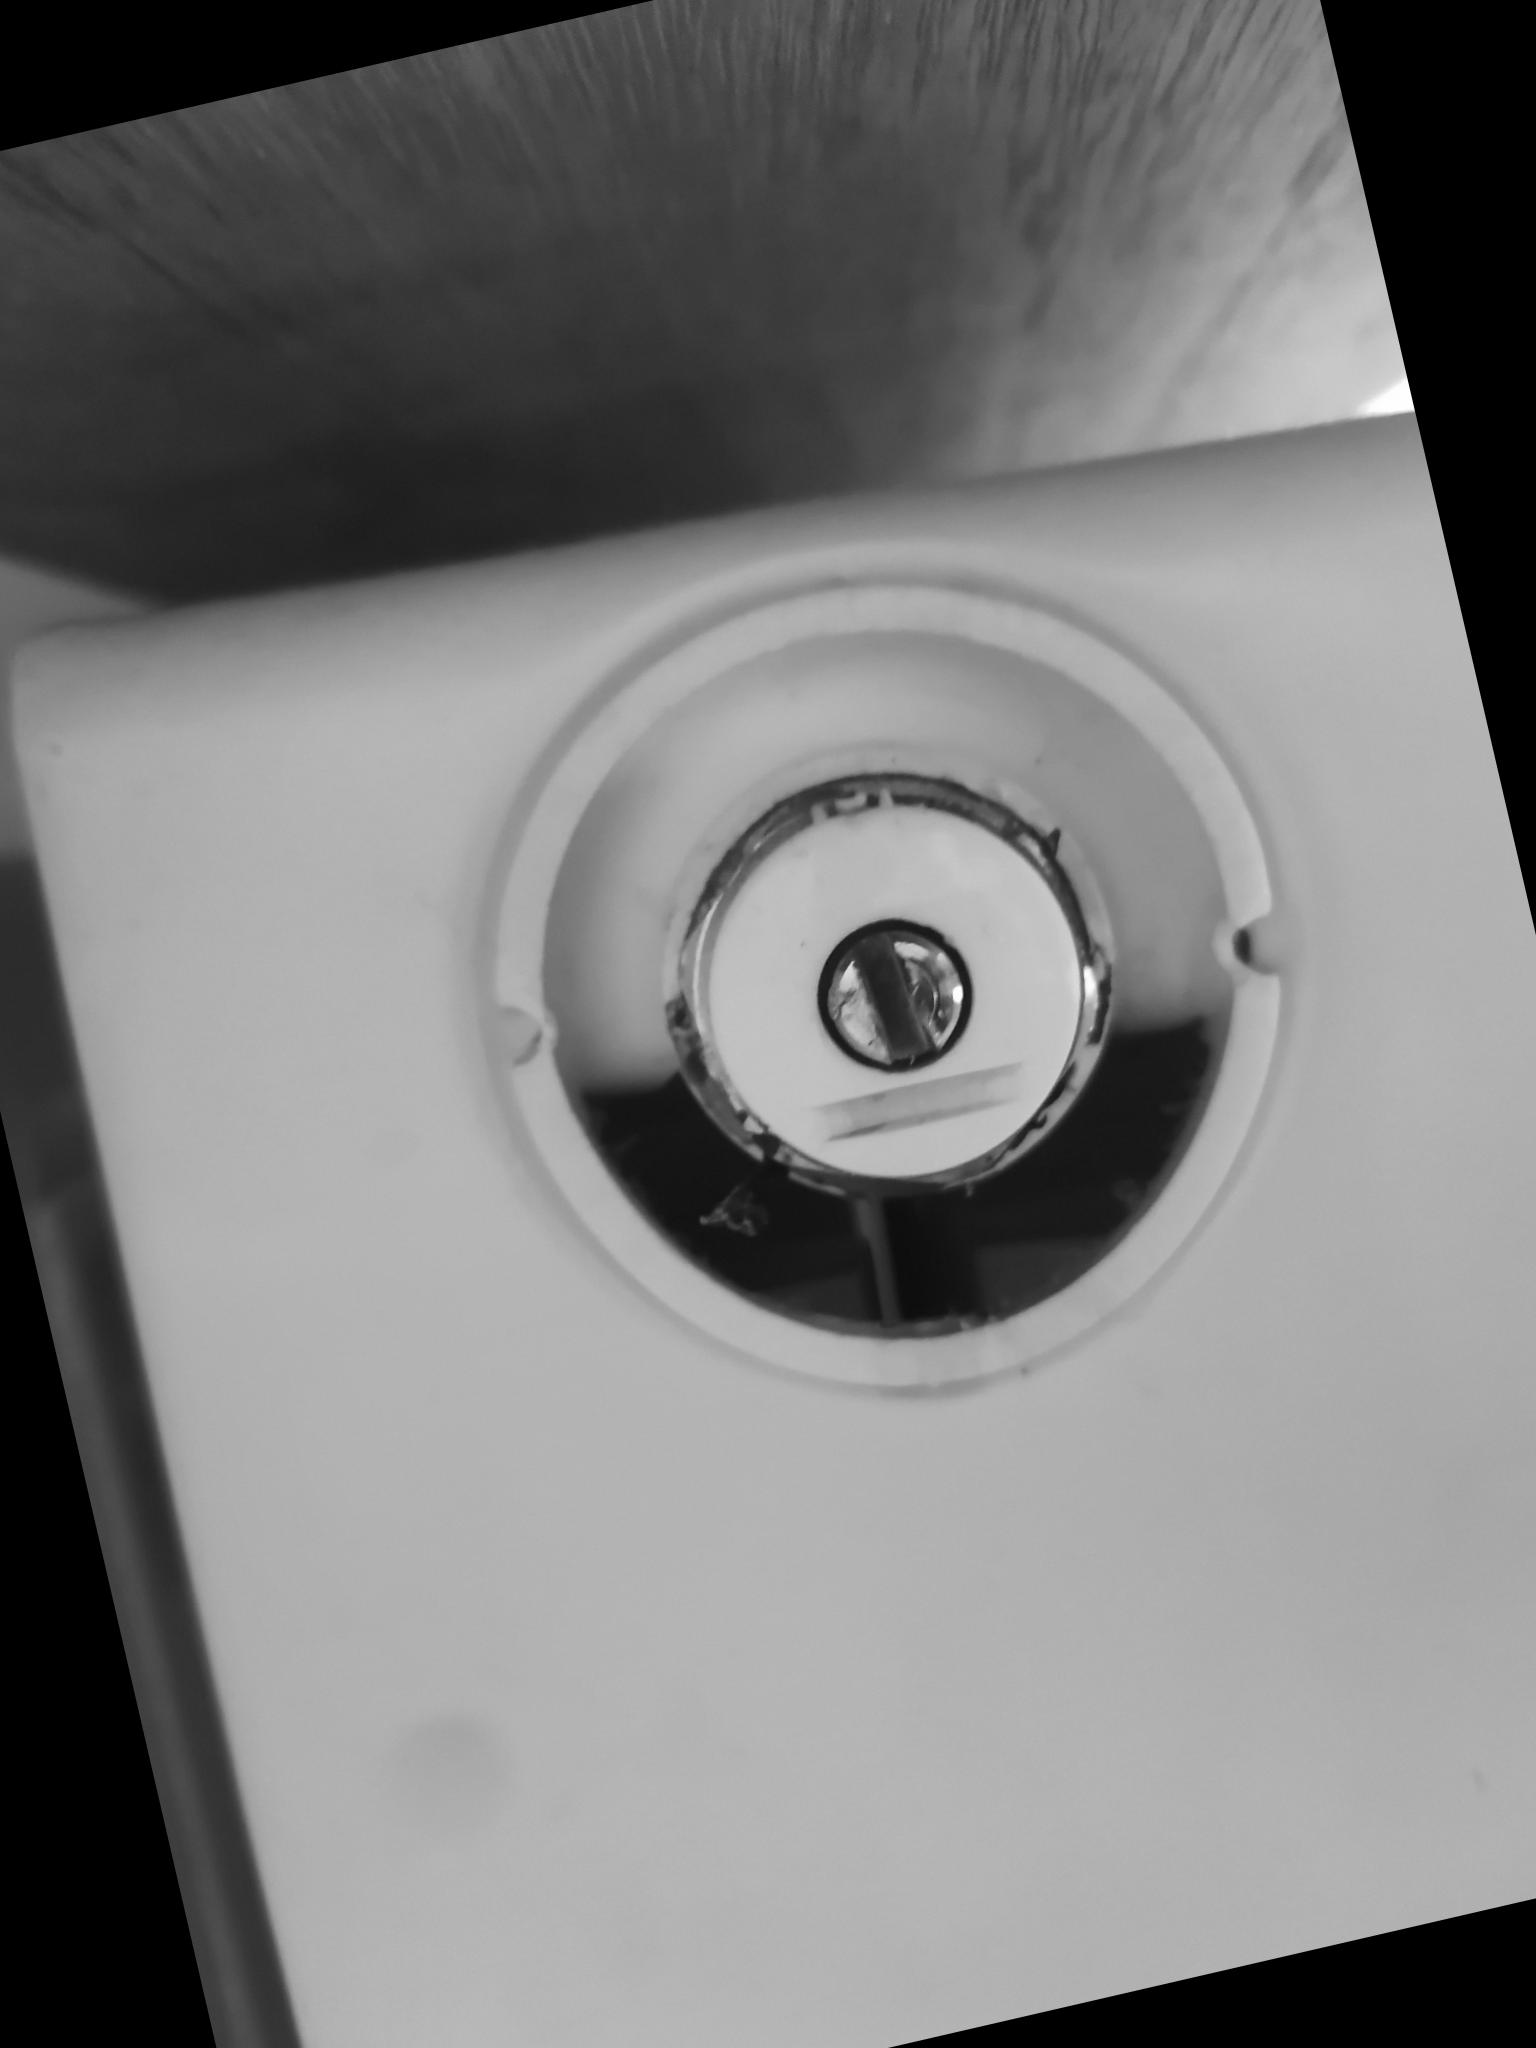slotted: (789, 900, 1005, 1103)
